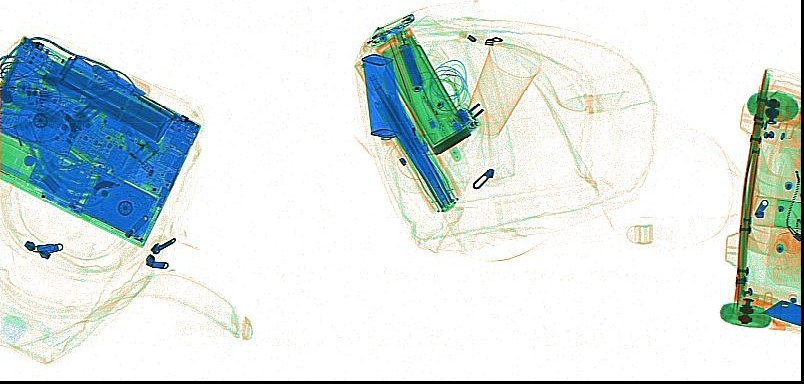knife: (92, 63, 150, 96)
zippooil: (360, 53, 402, 140)
